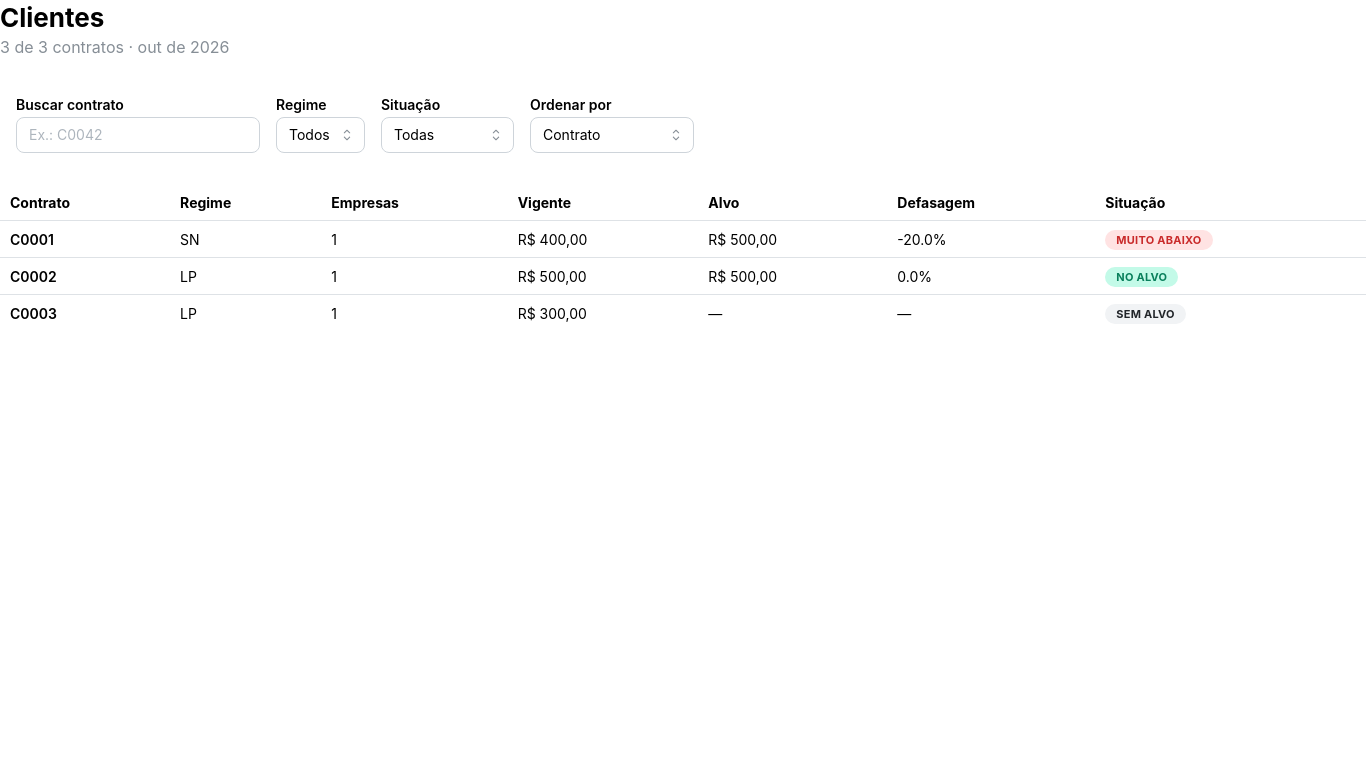
clientes › abre o detalhe do contrato ao clicar na linha
Click the text "C0001": (32, 239) x1=0 y1=221 x2=170 y2=258
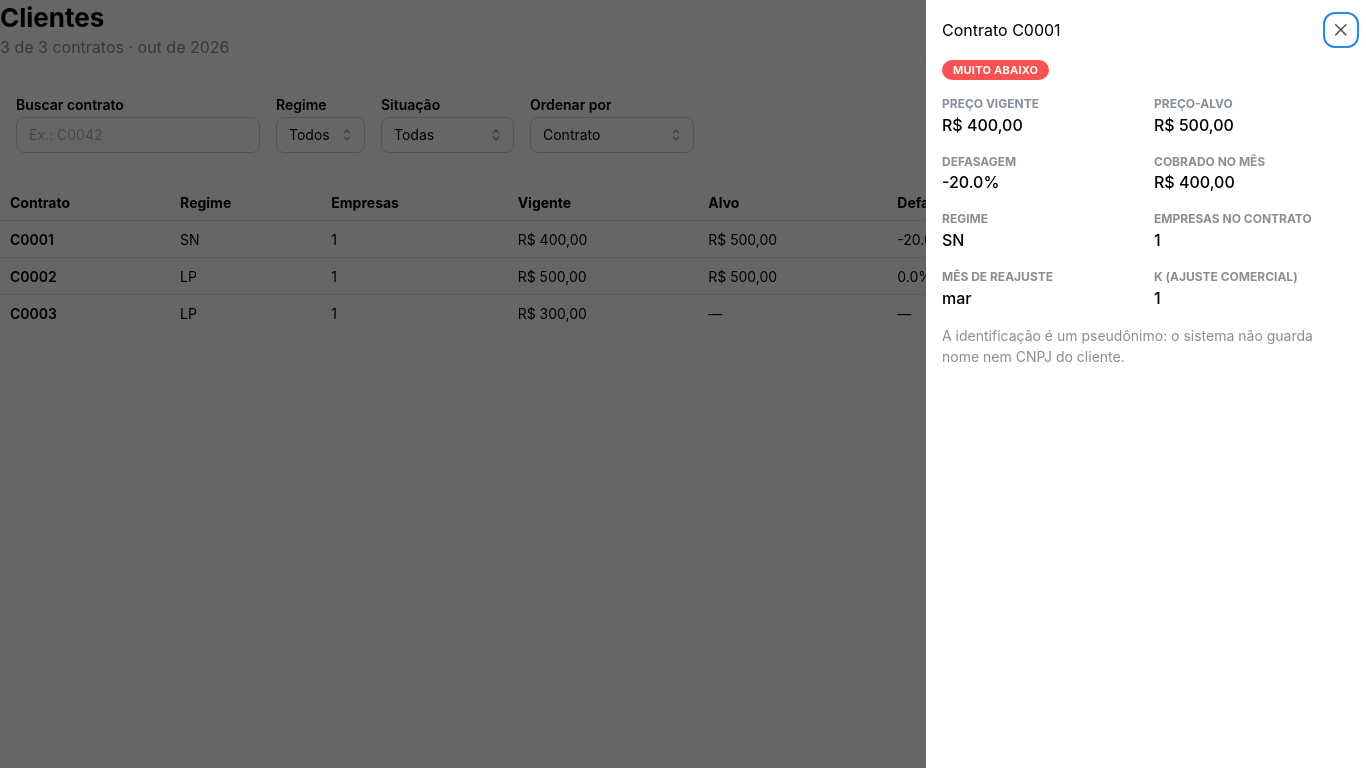
Check: the heading "Contrato C0001" is shown, box x1=942 y1=22 x2=1061 y2=38
Check: the text "não guarda nome nem CNPJ" is shown, box x1=942 y1=327 x2=1313 y2=365
